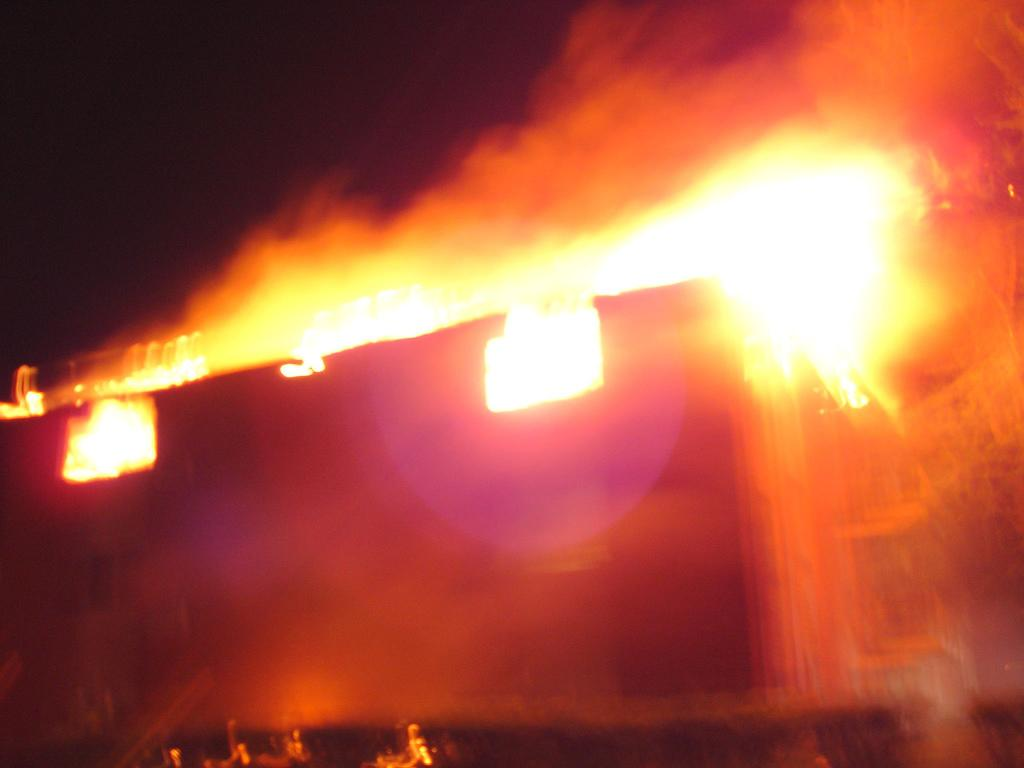fire: (732, 182, 892, 330), (506, 304, 600, 388), (76, 408, 152, 472), (314, 296, 424, 340)
